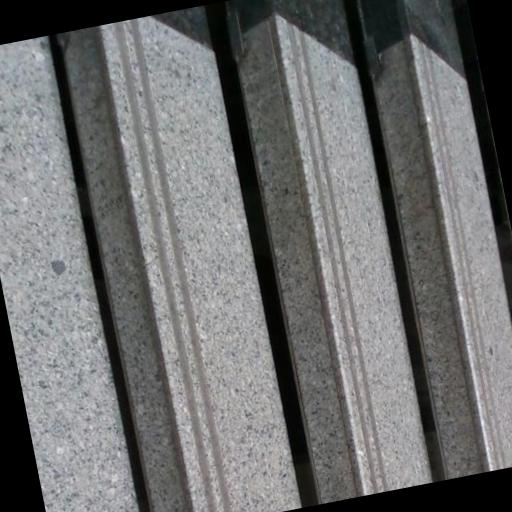stairs: (0, 0, 511, 511), (237, 15, 431, 503)
